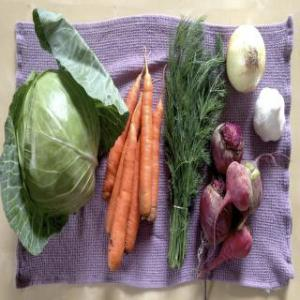beet: (198, 175, 228, 235), (222, 157, 255, 208), (216, 117, 246, 167)
cabbage: (2, 32, 100, 260)
carrot: (109, 118, 137, 269), (138, 62, 154, 222), (150, 83, 164, 229)
garlic: (251, 82, 285, 144)
onion: (226, 20, 266, 92)
